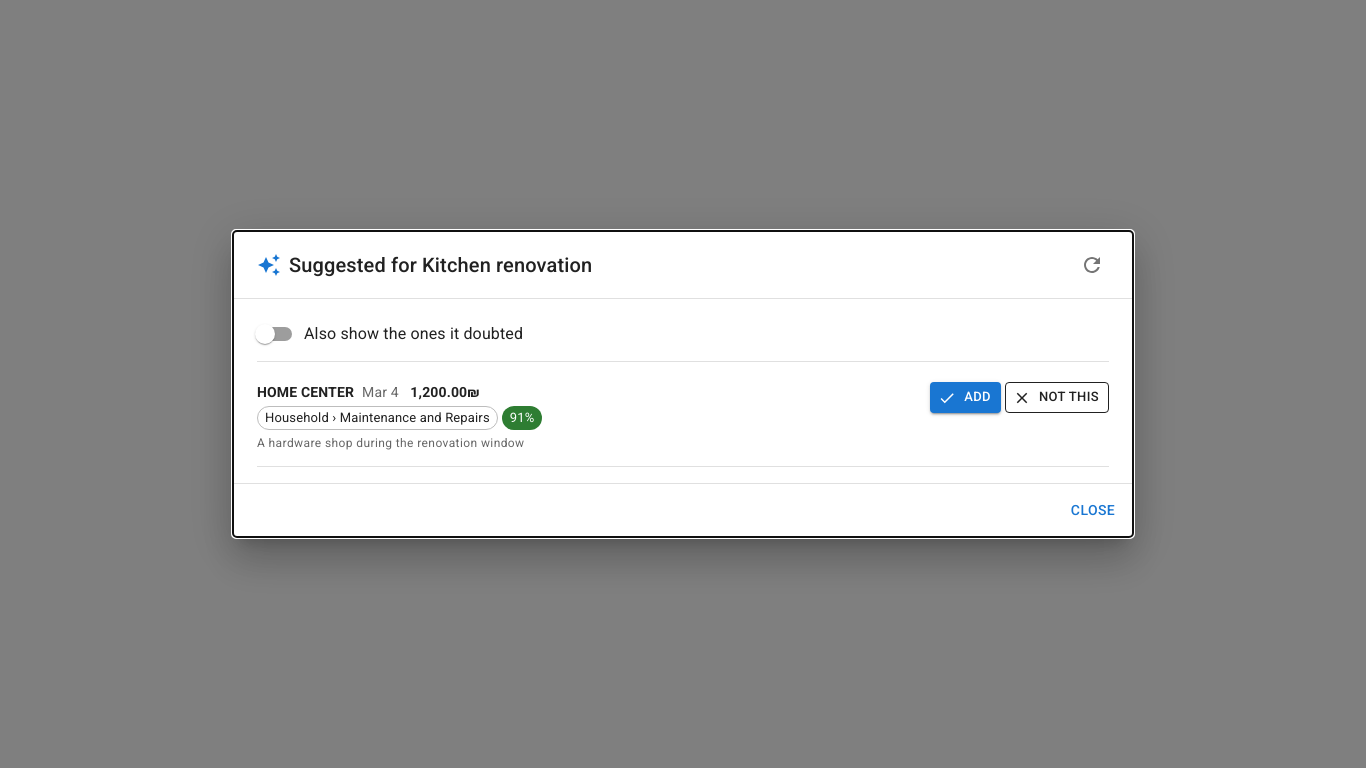
it: deciding › keeps a suggestion that could not be saved, and says why
Check: the text "HOME CENTER" is shown, box [257,382,354,402]
Click the button "Add" at (966, 398), box [930,382,1001,413]
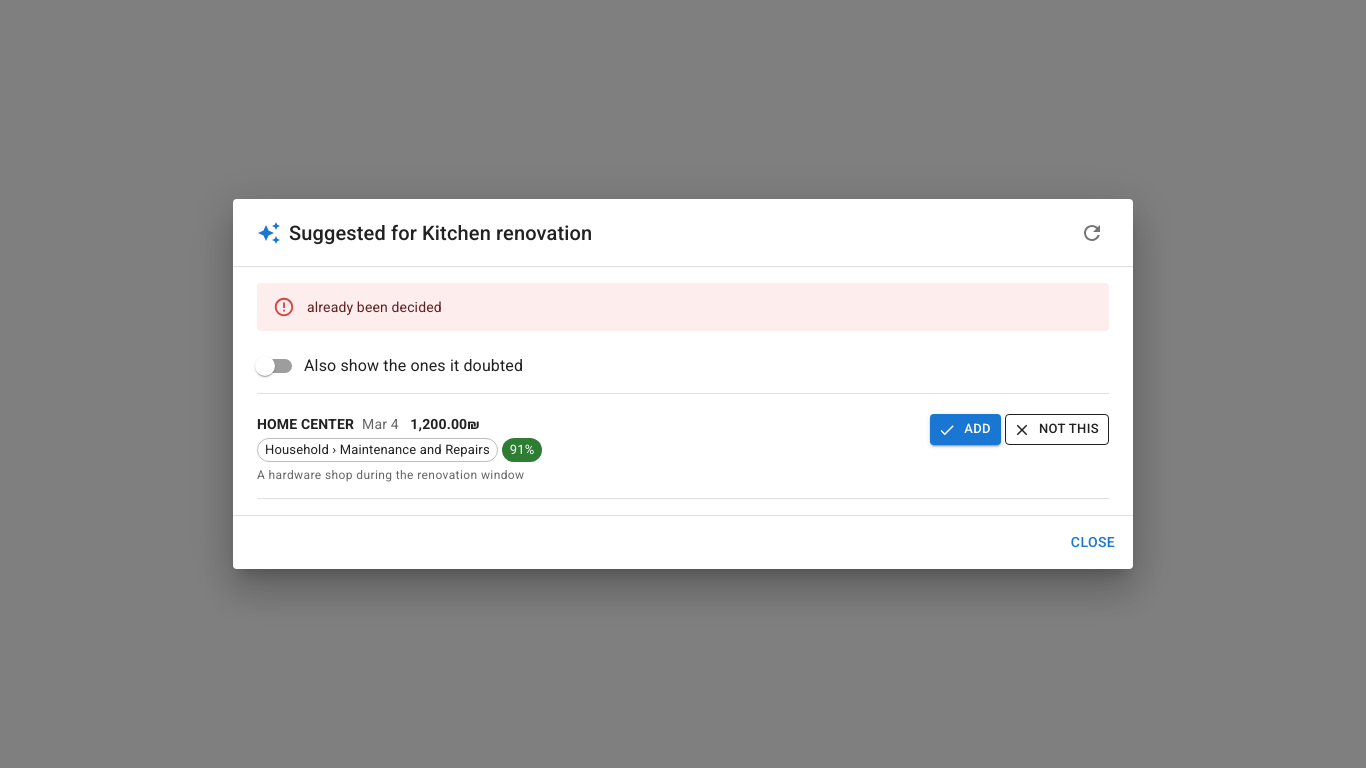
Check: the text "HOME CENTER" is shown, box [257,414,354,434]
Check: the text "already been decided" is shown, box [307,299,442,315]
